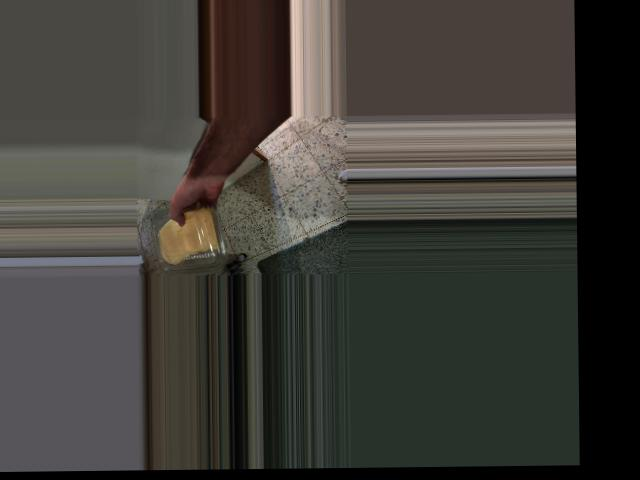cheese: (155, 204, 225, 269)
